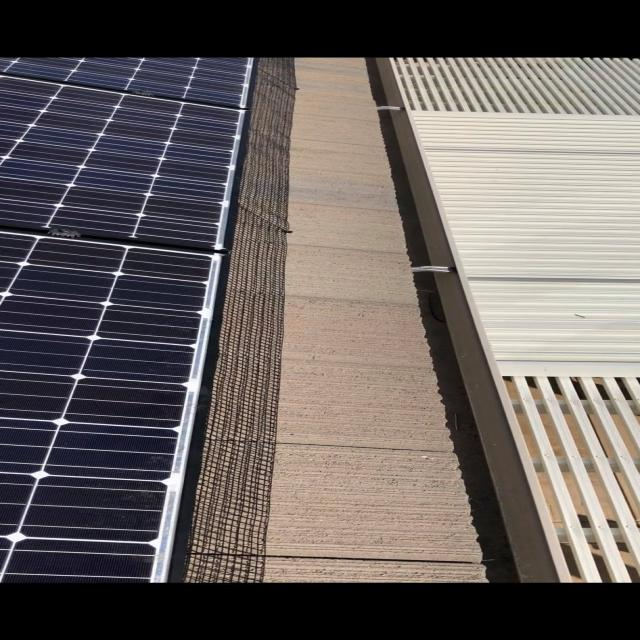clean-solar-panel: (84, 340, 192, 382)
